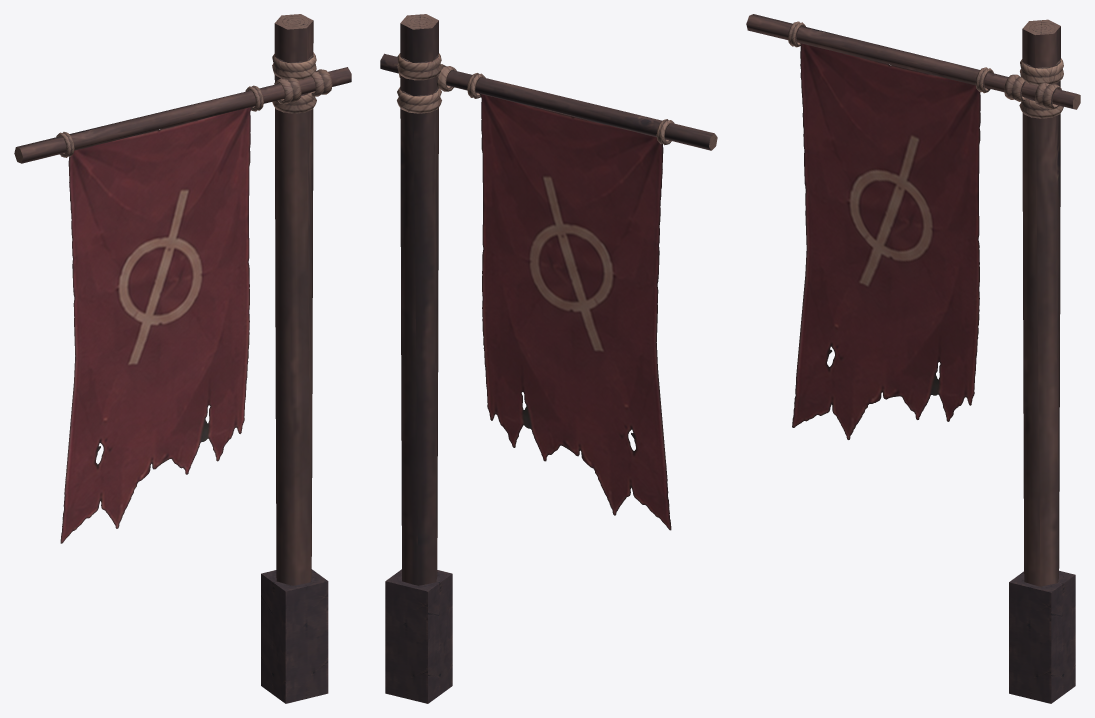
Rendered from Flag_a.FBX.
3 renders of one model, left to right at view 1: azimuth 30°, elevation 25°; view 2: azimuth 150°, elevation 25°; view 3: azimuth 330°, elevation 25°, orthographic.
Parts seen in each view (by area): view 1: Object029, Box050; view 2: Object029, Box050; view 3: Object029, Box050.
Part boxes in pixels (box(x1,y1,x2,y2)): Object029: box(60, 106, 253, 543); Box050: box(14, 14, 351, 703); Object029: box(478, 93, 671, 530); Box050: box(380, 14, 717, 703); Object029: box(792, 43, 989, 439); Box050: box(746, 14, 1080, 703).
Size of the model in its own units: 2.2 by 4.27 by 0.3195.
2 materials, 2 textured.
